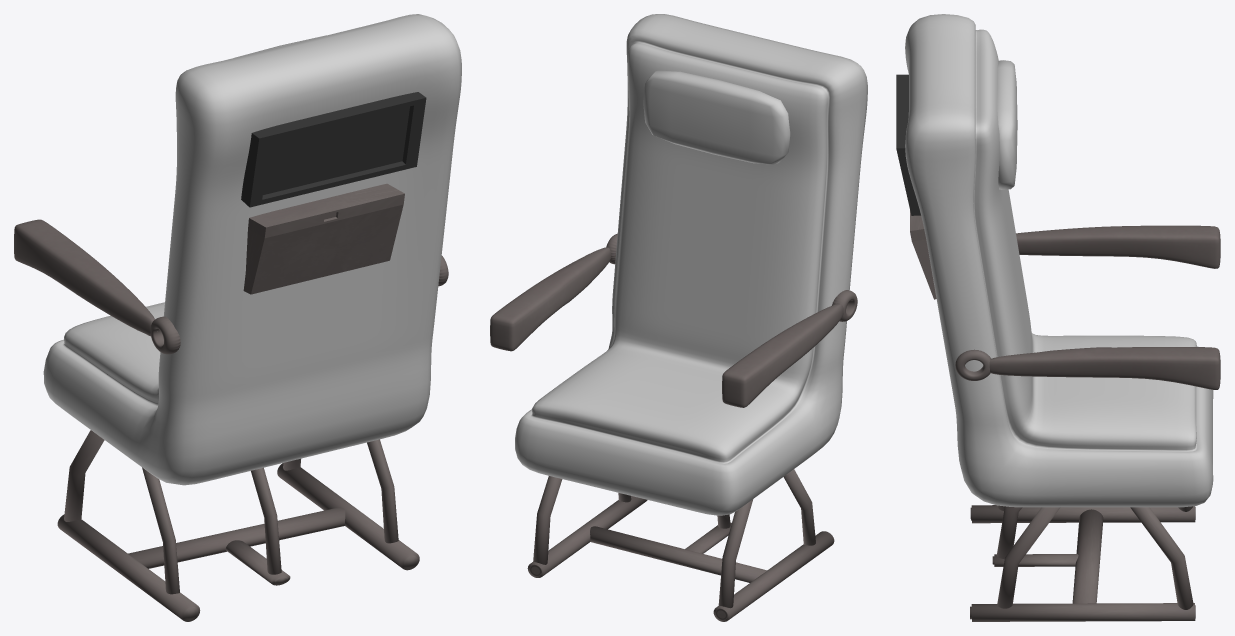
File: Silla.fbx
The picture shows the model from 3 angles, left to right: view 1: azimuth 30°, elevation 25°; view 2: azimuth 150°, elevation 25°; view 3: azimuth 270°, elevation 25°; orthographic projection. The views are drawn at different scales.
Parts seen in each view (by area): view 1: Cube.001, Cylinder.003, Cube.004, Cube.005, Cube.002, Cylinder.009; view 2: Cube.001, Cylinder.003, Cube.003, Cube.002, Cylinder.009; view 3: Cube.001, Cylinder.003, Cube.002, Cube.003, Cube.004, Cube.005, Cylinder.009.
Boxes of the visible parts, x1,y1,x2,y2 form: Cube.001: [43, 14, 461, 485]; Cylinder.003: [57, 430, 419, 621]; Cube.004: [241, 92, 426, 207]; Cube.005: [243, 183, 404, 294]; Cube.002: [14, 219, 157, 336]; Cylinder.009: [150, 255, 448, 354]; Cube.001: [515, 14, 867, 515]; Cylinder.003: [527, 469, 834, 621]; Cube.003: [643, 70, 790, 164]; Cube.002: [490, 247, 843, 407]; Cylinder.009: [606, 233, 857, 321]; Cube.001: [905, 14, 1213, 507]; Cylinder.003: [970, 505, 1195, 621]; Cube.002: [983, 225, 1220, 389]; Cube.003: [997, 60, 1017, 189]; Cube.004: [896, 74, 920, 215]; Cube.005: [910, 210, 936, 299]; Cylinder.009: [955, 349, 991, 380].
Size of the model in its own units: 45.42 by 79.53 by 46.
